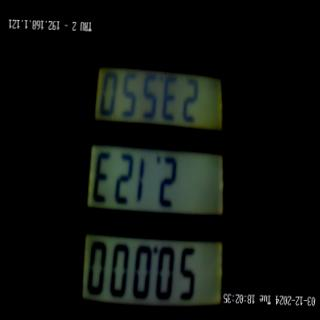screen: (73, 28, 234, 320)
